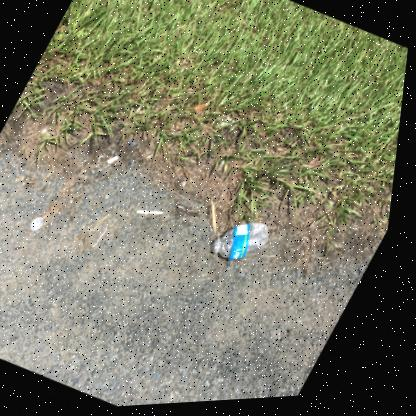Plastic: (217, 225, 272, 261)
Waste: (33, 217, 47, 231), (140, 212, 168, 216), (109, 157, 121, 165)
